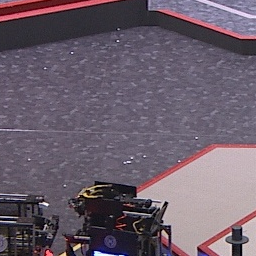Robot: (64, 181, 173, 256), (1, 190, 57, 256)
